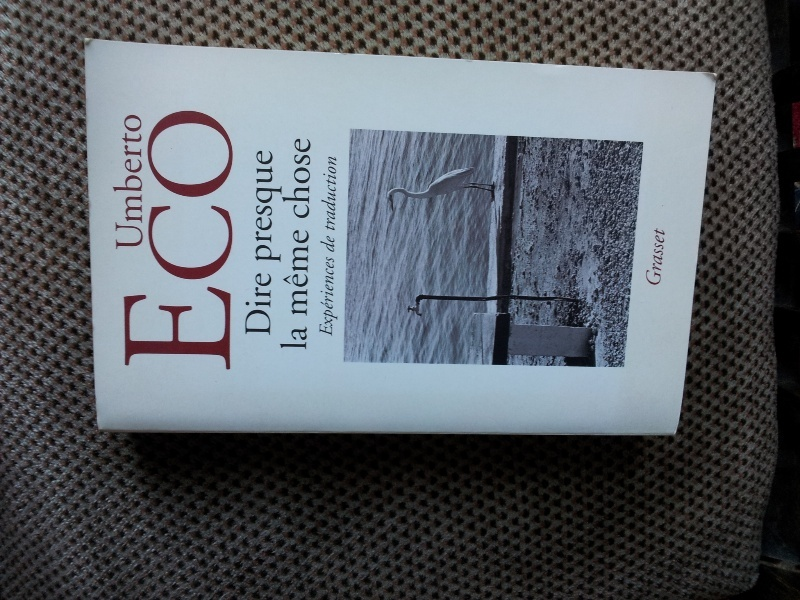text: (161, 108, 176, 376), (177, 108, 192, 376), (193, 108, 208, 376), (209, 108, 224, 376), (225, 108, 238, 376), (148, 108, 160, 376), (113, 107, 128, 250), (129, 107, 144, 250), (257, 149, 272, 265), (273, 149, 285, 265), (289, 229, 304, 318), (289, 136, 304, 221), (323, 254, 336, 340), (257, 271, 272, 339), (324, 152, 336, 236), (305, 136, 315, 221), (657, 226, 668, 290), (145, 107, 149, 250), (248, 271, 256, 339), (305, 229, 311, 318), (289, 324, 304, 351), (321, 231, 336, 255), (284, 229, 288, 318), (651, 226, 656, 290), (285, 136, 288, 221), (279, 324, 288, 351), (273, 271, 276, 339), (337, 254, 339, 340), (337, 152, 339, 236), (305, 324, 310, 351), (255, 149, 256, 265)
